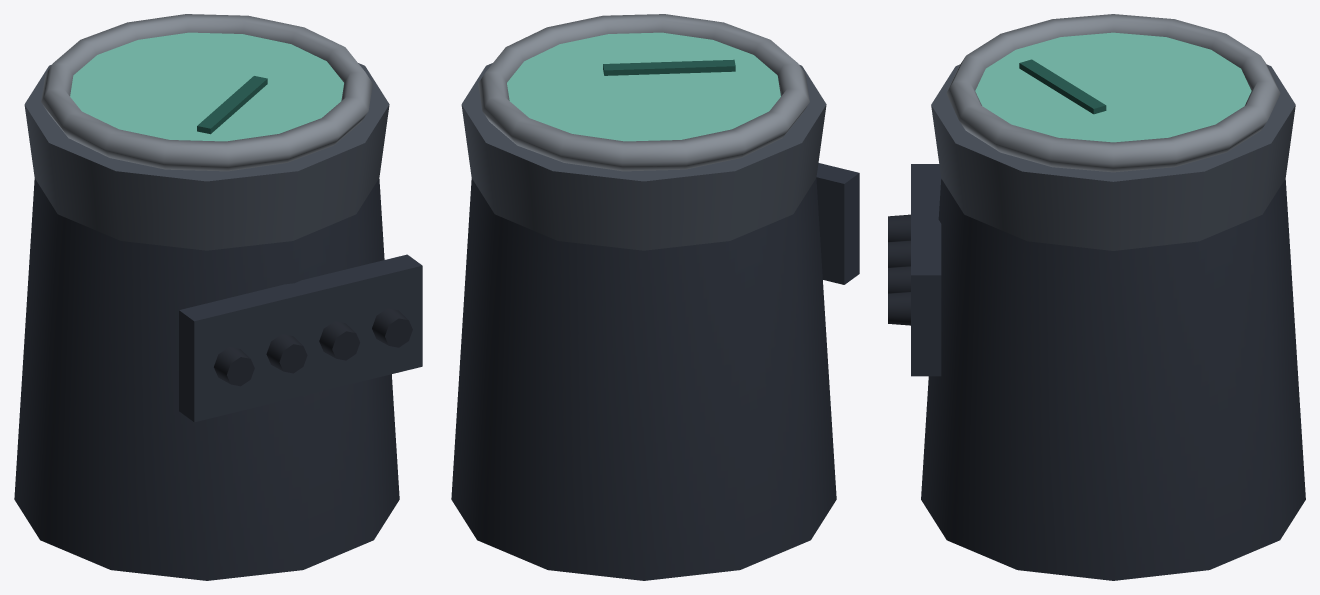
Rendered from radar_scope.glb.
3 views of the same model, side by side, from view 1: azimuth 30°, elevation 25°; view 2: azimuth 150°, elevation 25°; view 3: azimuth 270°, elevation 25° (orthographic).
Parts seen in each view (by area): view 1: radar_scope; view 2: radar_scope; view 3: radar_scope.
Boxes of the visible parts, x1,y1,x2,y2 form: radar_scope: (14, 14, 422, 580); radar_scope: (451, 14, 859, 580); radar_scope: (888, 14, 1305, 580).
Size of the model in its own units: 0.76 by 0.911 by 0.825.
